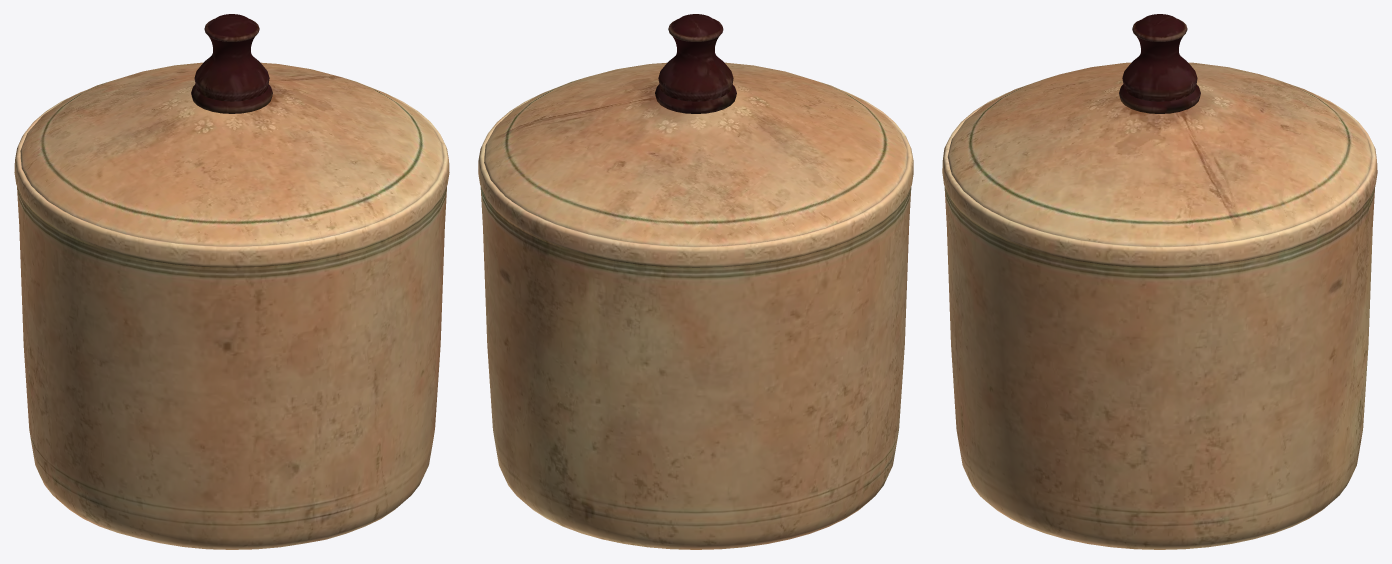
The model's file is brass_pot.glb.
The picture shows the model from 3 angles, left to right: view 1: azimuth 30°, elevation 25°; view 2: azimuth 150°, elevation 25°; view 3: azimuth 270°, elevation 25°; orthographic projection.
Visible parts, largest first — view 1: brass_pot_01.001; view 2: brass_pot_01.001; view 3: brass_pot_01.001.
Part boxes in pixels (left/top/right/bottom): brass_pot_01.001: left=14, top=14, right=449, bottom=549; brass_pot_01.001: left=478, top=14, right=913, bottom=549; brass_pot_01.001: left=942, top=14, right=1377, bottom=549.
Bounding box in the file's own units: 6.99 × 8.16 × 6.99.
Materials: 1 (1 with a texture image).
